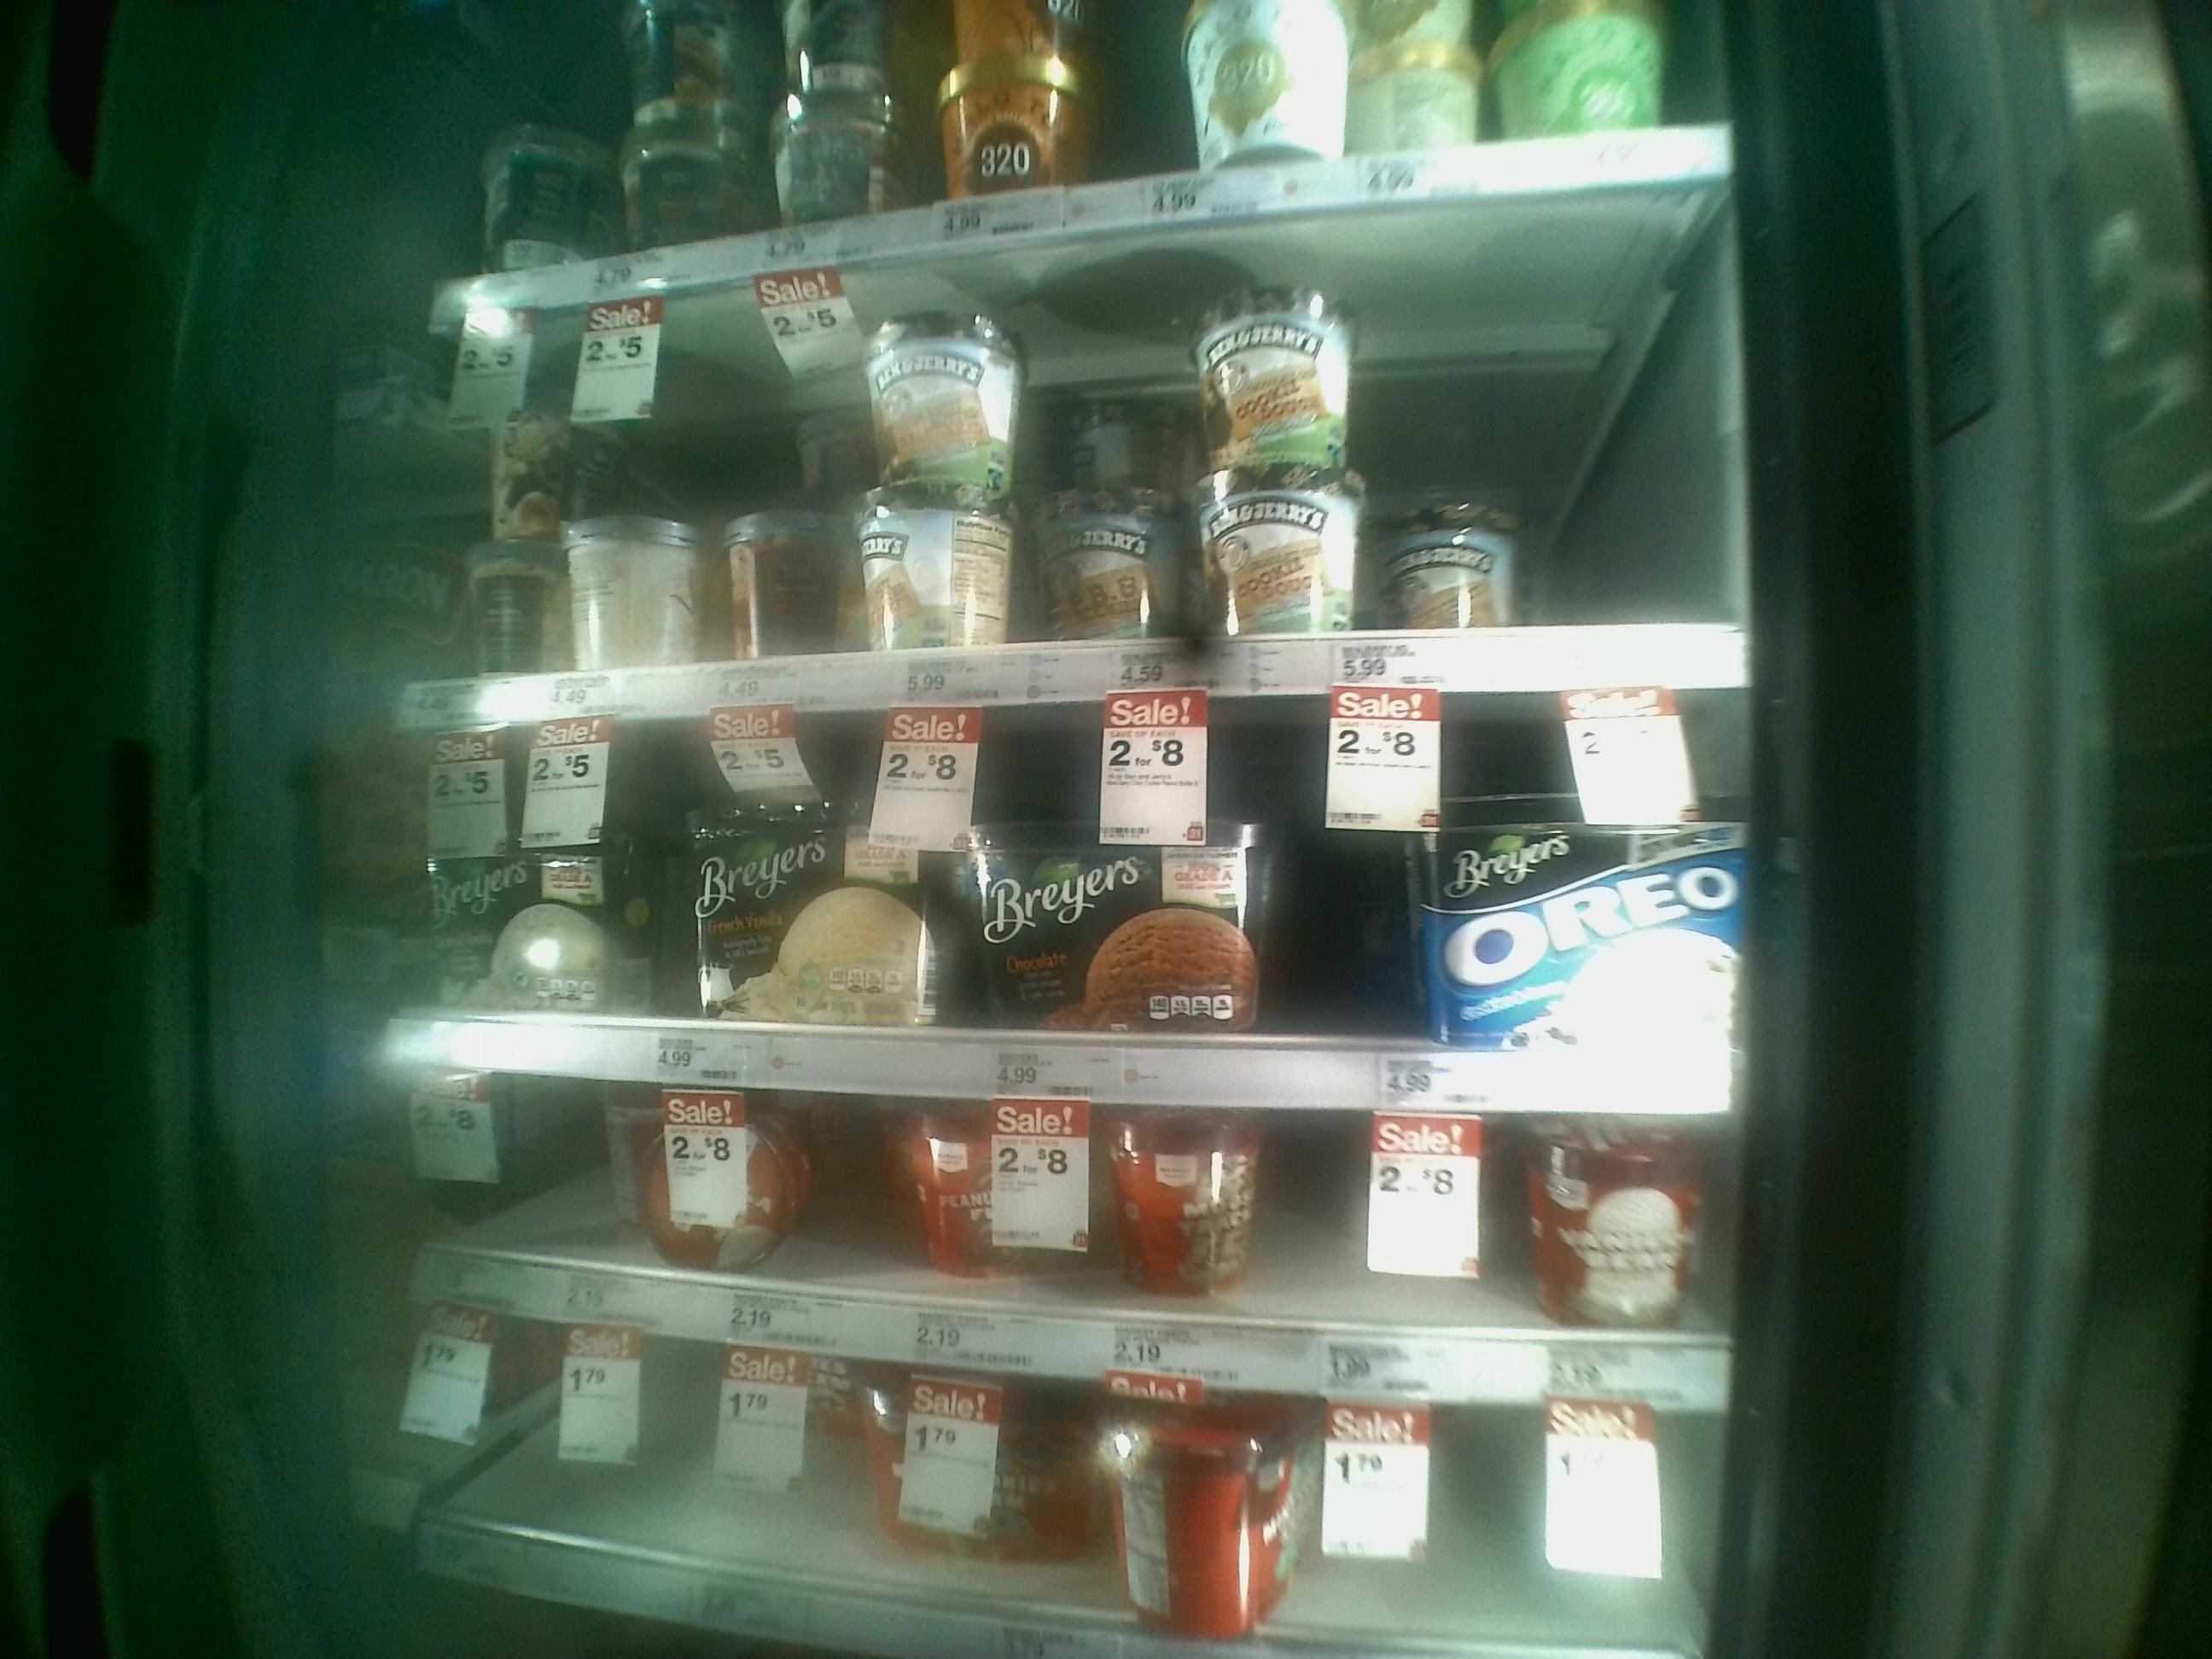shelf: (404, 688, 1754, 1082), (399, 1065, 1730, 1373)
